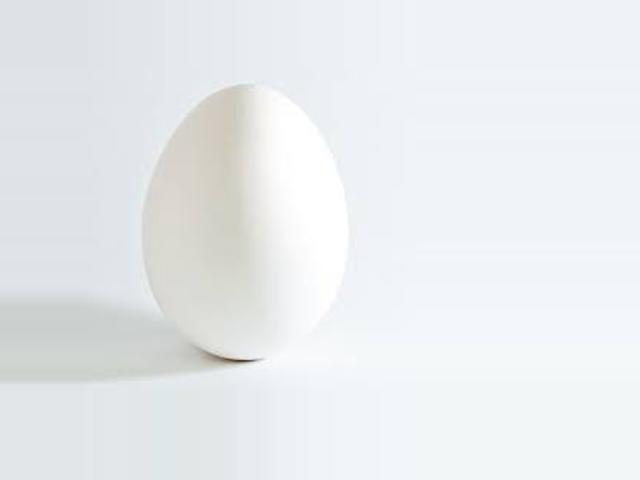egg: (144, 82, 348, 360)
